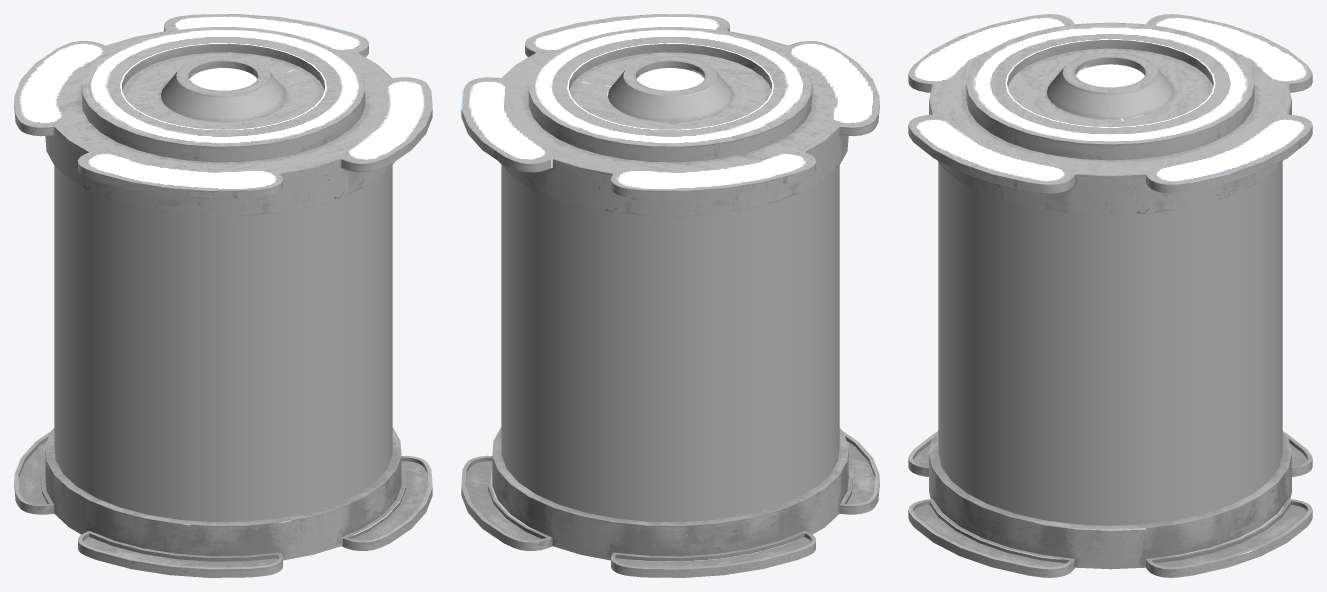
The model's file is SM_LargeCylinder.fbx.
3 views of the same model, side by side, from view 1: azimuth 30°, elevation 25°; view 2: azimuth 150°, elevation 25°; view 3: azimuth 270°, elevation 25° (orthographic).
Parts seen in each view (by area): view 1: SM_LargeCylinder_LOD0; view 2: SM_LargeCylinder_LOD0; view 3: SM_LargeCylinder_LOD0.
Boxes of the visible parts, box(x1,y1,x2,y2) form: SM_LargeCylinder_LOD0: box(14, 14, 432, 577); SM_LargeCylinder_LOD0: box(461, 14, 879, 577); SM_LargeCylinder_LOD0: box(908, 14, 1312, 577).
Size of the model in its own units: 154 by 154 by 177.
